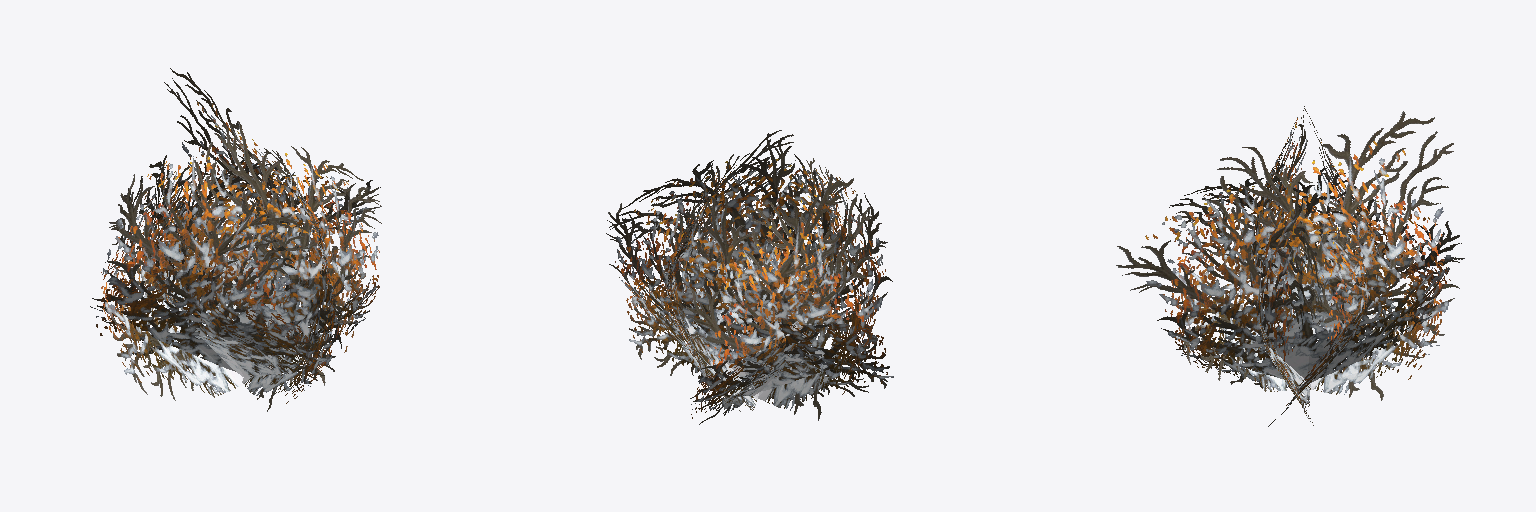
The picture shows the model from 3 angles: view 1: azimuth 30°, elevation 25°; view 2: azimuth 150°, elevation 25°; view 3: azimuth 270°, elevation 25°; orthographic projection.
Parts seen in each view (by area): view 1: dragonblight_bush03; view 2: dragonblight_bush03; view 3: dragonblight_bush03.
Boxes of the visible parts, x1=… form: dragonblight_bush03: x1=90, y1=68, x2=381, y2=411; dragonblight_bush03: x1=606, y1=130, x2=893, y2=424; dragonblight_bush03: x1=1116, y1=106, x2=1464, y2=426.
Bounding box in the file's own units: 2.73 × 2.61 × 3.01.
Materials: 1 (1 with a texture image).